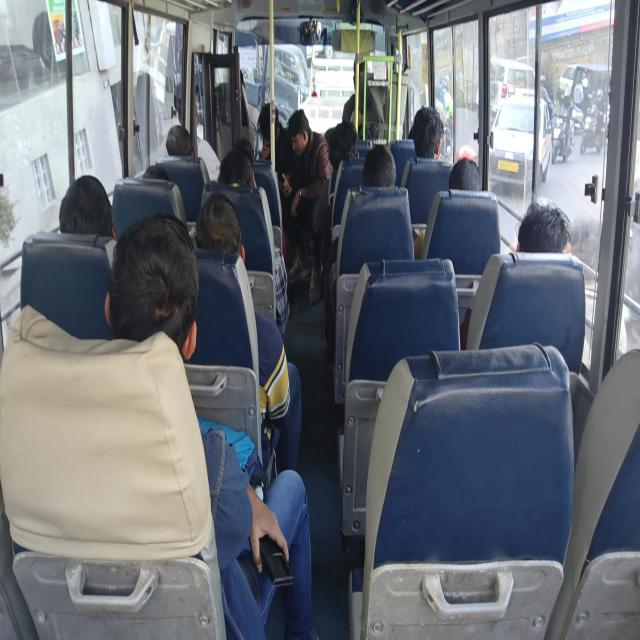person: (104, 211, 313, 638), (194, 192, 302, 474), (460, 199, 572, 349), (324, 143, 396, 370), (217, 145, 290, 336), (280, 108, 332, 303), (308, 120, 358, 304), (412, 156, 482, 259), (165, 81, 221, 183), (58, 174, 114, 238), (256, 100, 294, 192), (516, 200, 572, 253), (408, 105, 445, 159), (324, 120, 358, 172), (217, 146, 256, 188), (361, 144, 396, 188), (448, 157, 482, 191), (165, 124, 193, 156), (456, 144, 476, 162)
